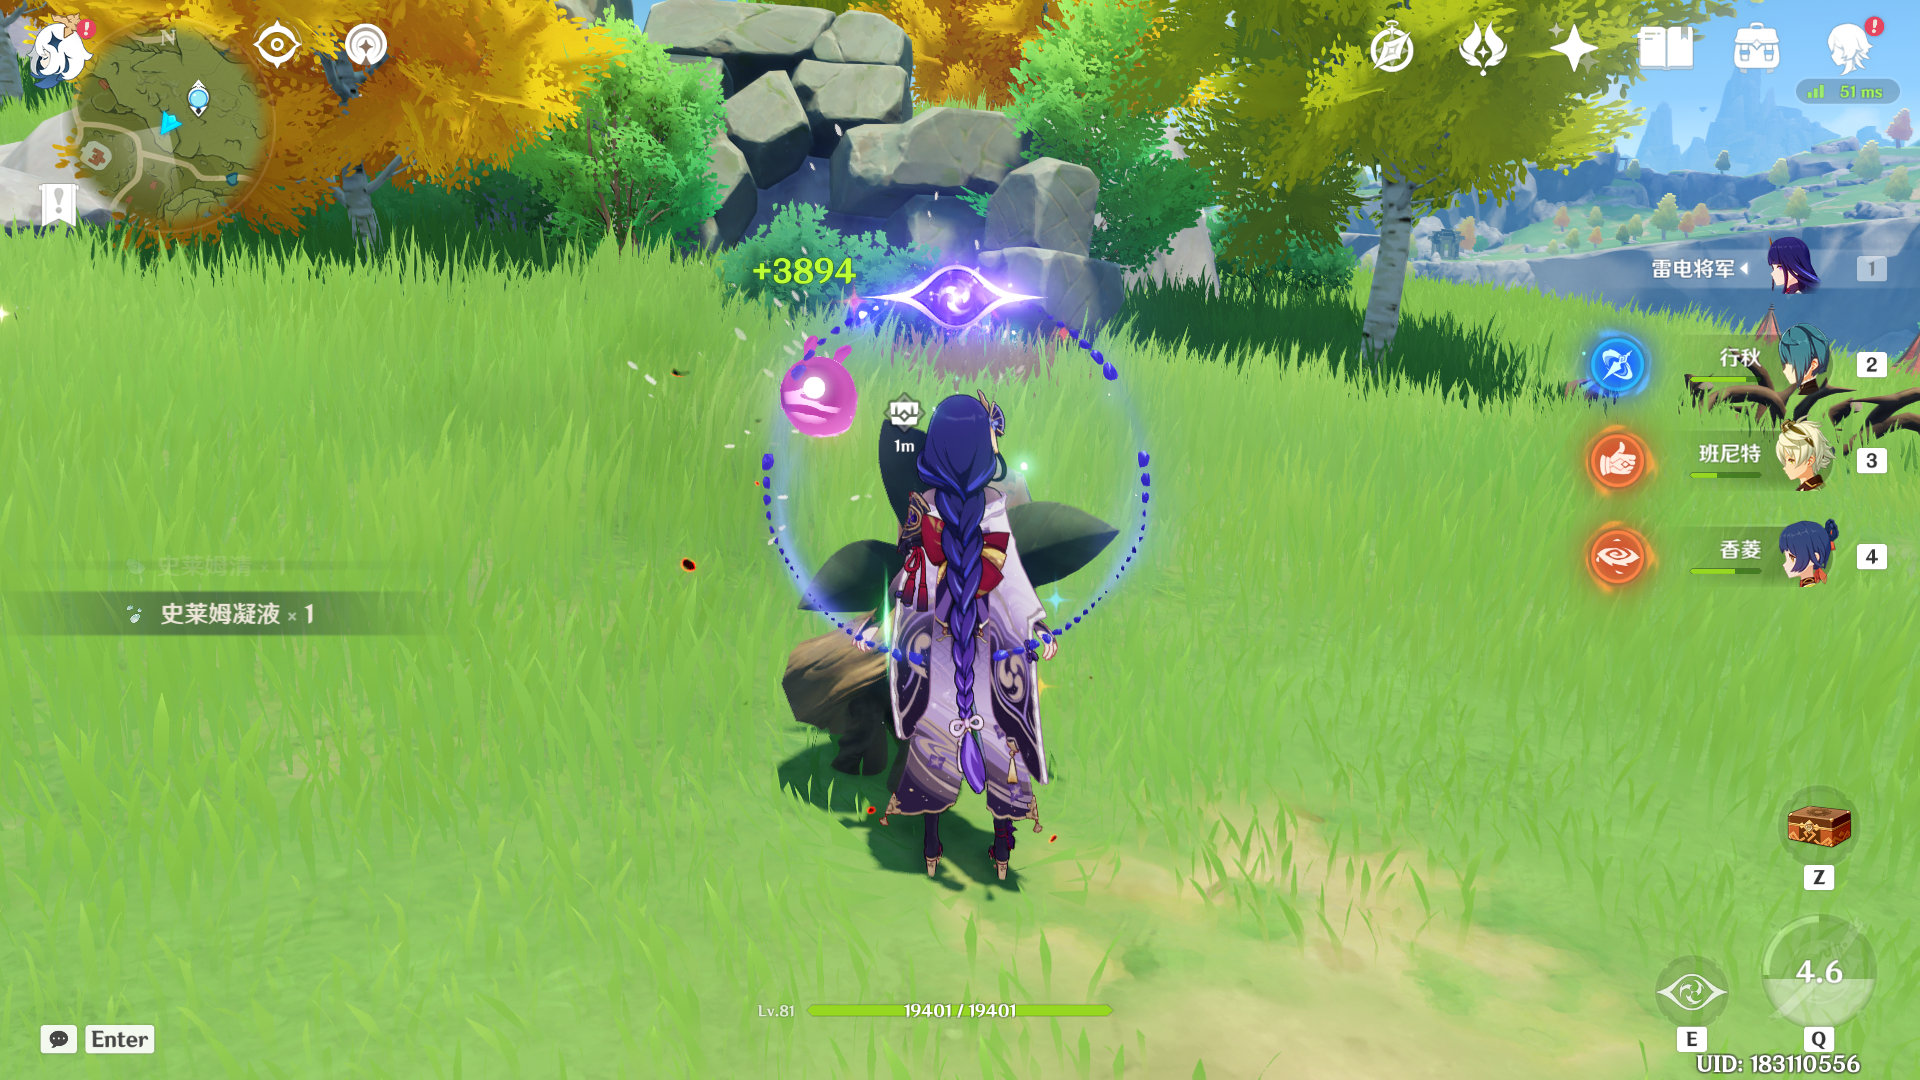character: (823, 392, 1120, 891)
